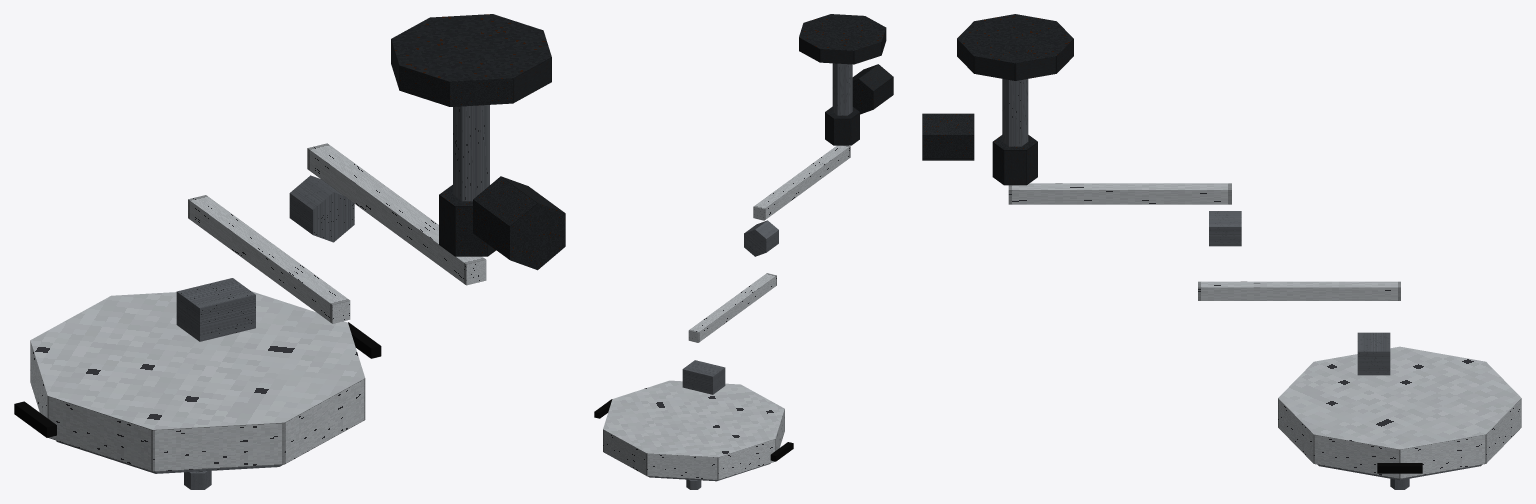
Rendered from surgical_light.glb.
3 renders of one model, left to right at view 1: azimuth 30°, elevation 25°; view 2: azimuth 150°, elevation 25°; view 3: azimuth 270°, elevation 25°, orthographic. The views are drawn at different scales.
Visible parts, largest first — view 1: surgical_light; view 2: surgical_light; view 3: surgical_light.
Part boxes in pixels (left/top/right/bottom): surgical_light: left=14, top=14, right=565, bottom=489; surgical_light: left=594, top=14, right=893, bottom=489; surgical_light: left=922, top=14, right=1521, bottom=489.
Bounding box in the file's own units: 0.835 × 1.52 × 1.85.
1 material, 1 textured.
